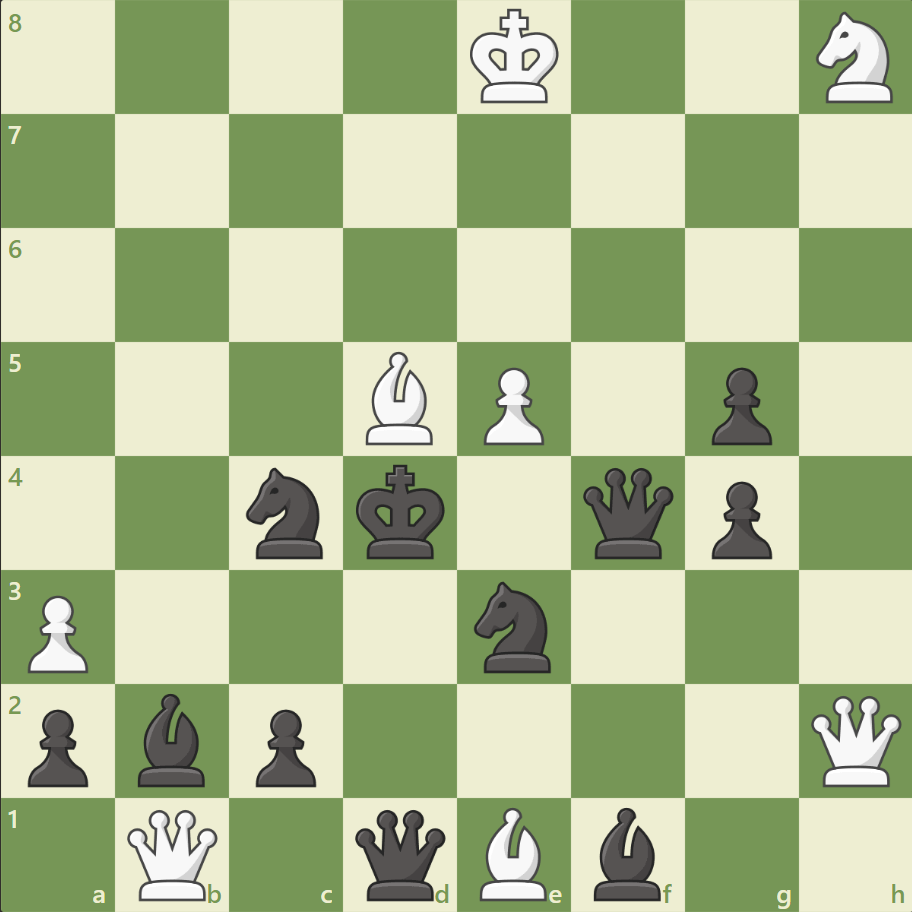B: (471, 801, 555, 904), (358, 347, 442, 449)
K: (465, 4, 565, 112)
N: (806, 7, 903, 110)
P: (474, 359, 549, 450), (20, 586, 95, 677)
Q: (805, 690, 904, 789), (124, 804, 223, 903)
b: (131, 687, 215, 790), (585, 801, 669, 904)
k: (351, 458, 451, 566)
n: (238, 461, 335, 564), (465, 575, 562, 677)
p: (701, 359, 776, 450), (701, 473, 776, 564), (20, 700, 95, 791), (247, 700, 322, 791)
q: (578, 463, 677, 562), (351, 804, 450, 903)
